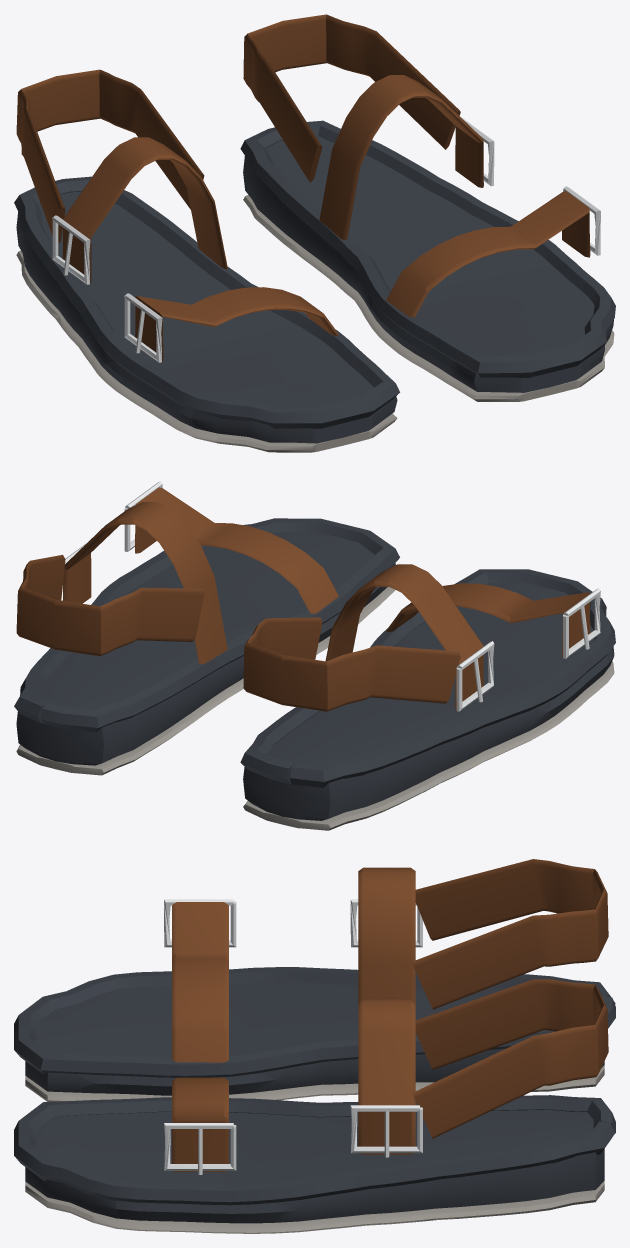
File: sandal_leather_vn.mid.glb
The picture shows the model from 3 angles, top to bottom: view 1: azimuth 30°, elevation 25°; view 2: azimuth 150°, elevation 25°; view 3: azimuth 270°, elevation 25°; orthographic projection. The views are drawn at different scales.
Parts seen in each view (by area): view 1: sandal_leather_vn; view 2: sandal_leather_vn; view 3: sandal_leather_vn.
Boxes of the visible parts, x1,y1,x2,y2 form: sandal_leather_vn: (14,14,615,452); sandal_leather_vn: (14,481,615,830); sandal_leather_vn: (14,859,615,1233).
Size of the model in its own units: 0.2394 by 0.0904 by 0.2636.
